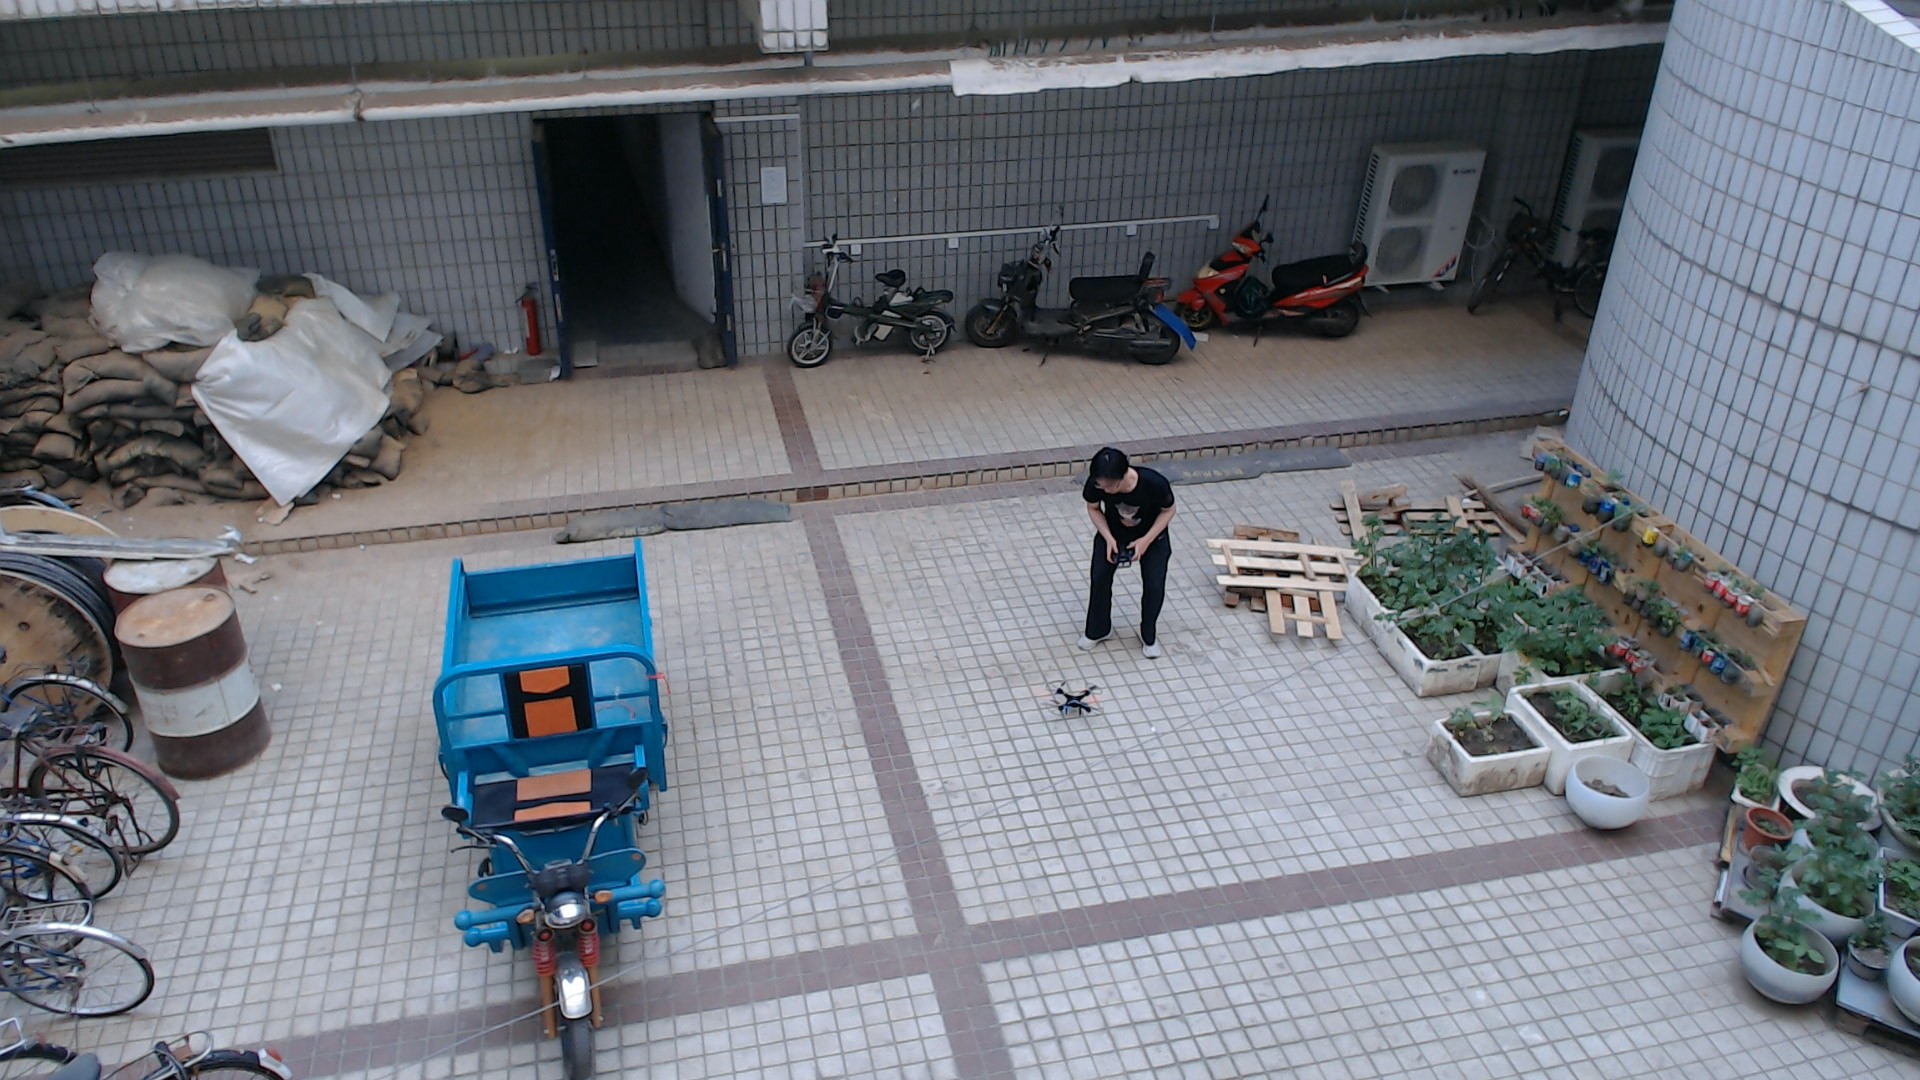drone: (1024, 671, 1126, 742)
person: (1059, 432, 1184, 659)
